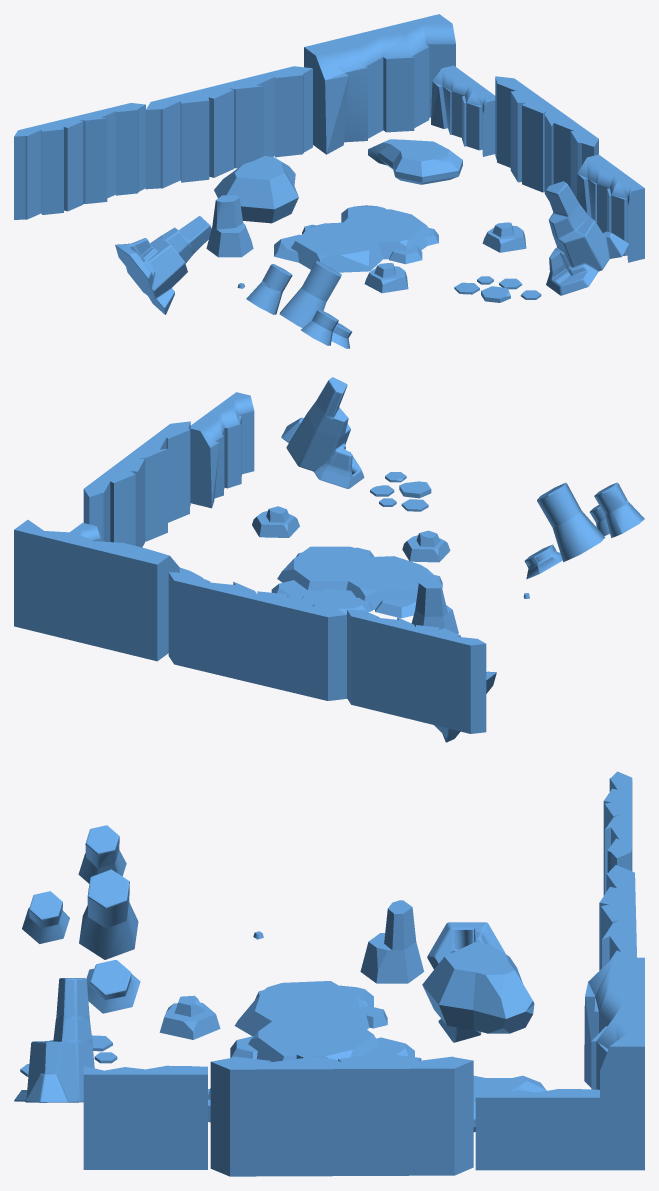
The model's file is ScenaGlaciar---.fbx.
3 renders of one model, top to bottom at view 1: azimuth 30°, elevation 25°; view 2: azimuth 150°, elevation 25°; view 3: azimuth 270°, elevation 25°, orthographic. The views are drawn at different scales.
Parts seen in each view (by area): view 1: muro de hielo003, Muro de hielo, muro de hielo2, muro de hielo004, paltaformaDeHielo, iceberg003, Muro de hielo002, iceberg, PiladeHielo, Muro de hielo001, HieloGigante, HieloGigante2 (+4 smaller); view 2: muro de hielo003, Muro de hielo, muro de hielo2, muro de hielo004, paltaformaDeHielo, Muro de hielo002, PiladeHielo, iceberg003, iceberg2, PlataformaDeHielo2, Hielo001, Hielo (+1 smaller); view 3: muro de hielo004, Muro de hielo002, Muro de hielo, paltaformaDeHielo, Muro de hielo001, PiladeHielo, HieloGigante, iceberg003, iceberg2, muro de hielo003, muro de hielo2, iceberg (+3 smaller).
Boxes of the visible parts, x1,y1,x2,y2 form: muro de hielo003: [145, 66, 312, 189]; Muro de hielo: [304, 14, 455, 154]; muro de hielo2: [14, 103, 145, 219]; muro de hielo004: [495, 76, 598, 201]; paltaformaDeHielo: [274, 205, 438, 272]; iceberg003: [546, 181, 628, 295]; Muro de hielo002: [576, 154, 644, 262]; iceberg: [115, 216, 211, 314]; PiladeHielo: [246, 260, 351, 348]; Muro de hielo001: [431, 65, 495, 156]; HieloGigante: [214, 156, 298, 223]; HieloGigante2: [368, 139, 462, 184]; muro de hielo003: [168, 572, 347, 700]; Muro de hielo: [14, 520, 179, 661]; muro de hielo2: [347, 609, 486, 733]; muro de hielo004: [83, 421, 190, 547]; paltaformaDeHielo: [271, 546, 442, 618]; Muro de hielo002: [190, 392, 254, 508]; PiladeHielo: [524, 482, 644, 579]; iceberg003: [281, 377, 364, 488]; iceberg2: [411, 580, 458, 633]; PlataformaDeHielo2: [370, 472, 431, 511]; Hielo001: [252, 506, 299, 537]; Hielo: [402, 530, 450, 562]; muro de hielo004: [210, 1053, 473, 1176]; Muro de hielo002: [83, 1065, 207, 1169]; Muro de hielo: [584, 957, 644, 1170]; paltaformaDeHielo: [230, 981, 414, 1061]; Muro de hielo001: [475, 1089, 599, 1170]; PiladeHielo: [22, 825, 140, 1013]; HieloGigante: [422, 942, 534, 1033]; iceberg003: [14, 978, 94, 1102]; iceberg2: [360, 900, 424, 983]; muro de hielo003: [599, 865, 636, 970]; muro de hielo2: [603, 771, 632, 895]; iceberg: [427, 922, 505, 1042].
Size of the model in its own units: 67.66 by 25.38 by 61.93.
